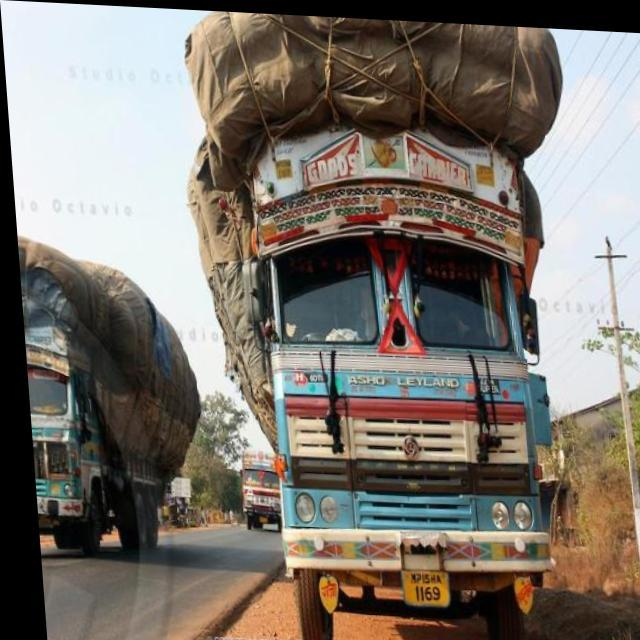covered: (192, 8, 596, 640), (12, 214, 214, 524)
